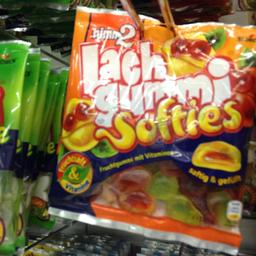candy: (50, 6, 255, 254)
